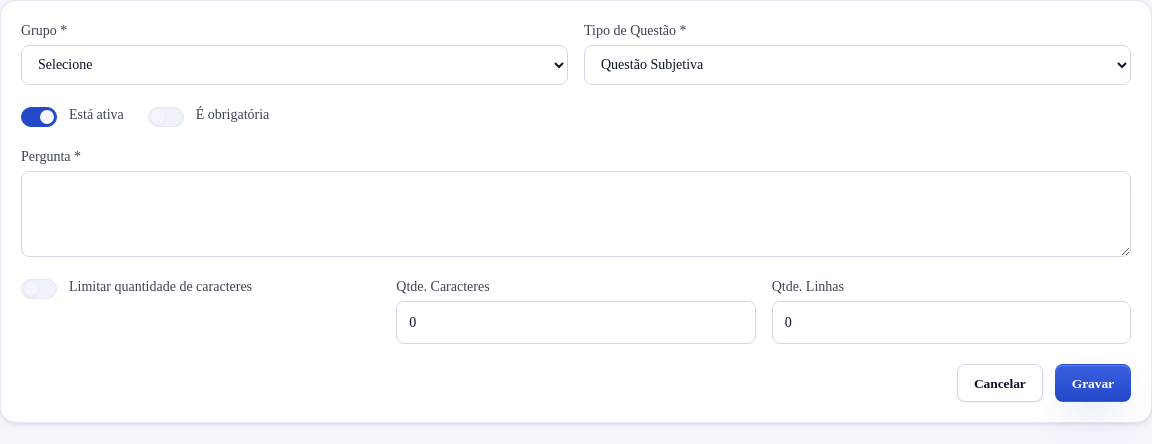
Test: QuestaoForm › questão com escala mostra o seletor de escala (só ativas); outros tipos não
expect the field labelled "Escala" is not shown: met
Select "Questão Objetiva Com Escala" in the dropdown labelled "Tipo de Questão *" at (858, 65), box [584, 45, 1131, 85]
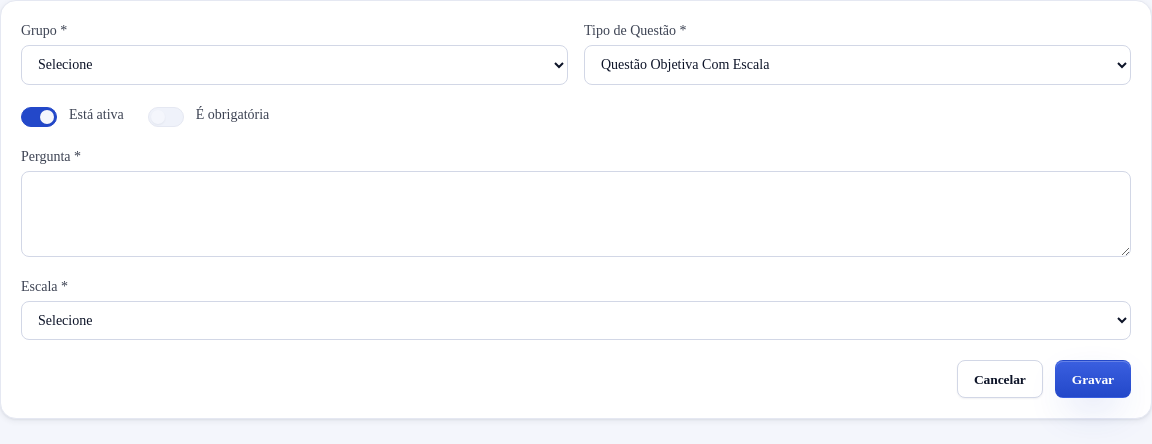
expect the dropdown labelled "Escala *" is shown: met, box [21, 301, 1131, 340]
